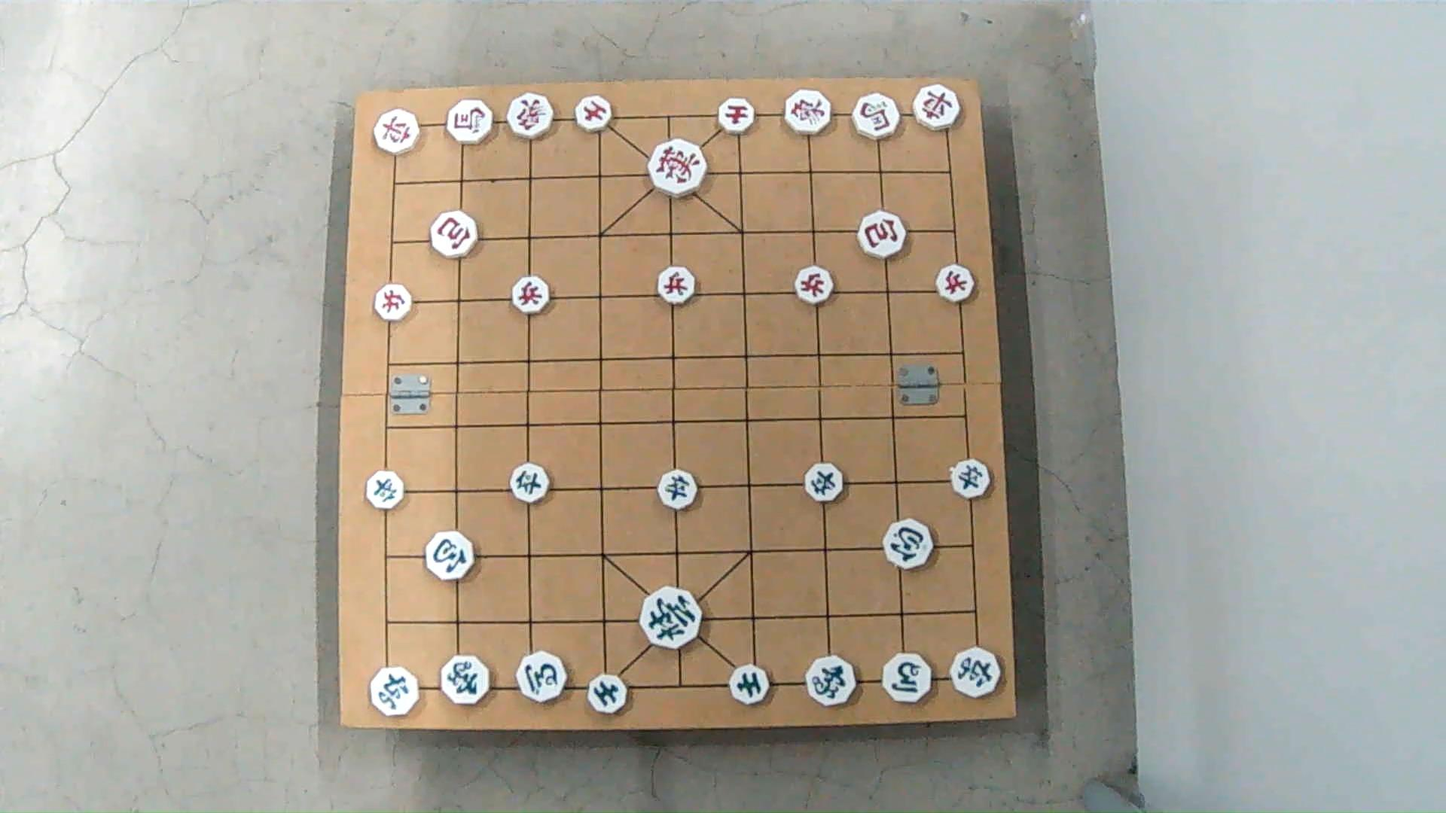cha_green: (950, 648, 1002, 700), (371, 667, 421, 714)
cha_red: (374, 108, 421, 157), (913, 85, 960, 128)
jol_green: (509, 464, 551, 503), (804, 463, 846, 501), (657, 470, 698, 508), (950, 458, 991, 496), (366, 473, 407, 510)
jol_red: (795, 266, 835, 303), (935, 265, 976, 301), (508, 277, 549, 312), (656, 266, 694, 303), (375, 287, 413, 322)
ma_green: (516, 652, 569, 703), (881, 654, 932, 702)
ma_red: (850, 93, 900, 144), (447, 100, 494, 140)
po_green: (424, 531, 474, 583), (883, 521, 933, 568)
po_red: (432, 211, 480, 257), (860, 212, 908, 257)
sa_green: (728, 667, 771, 705), (587, 675, 627, 713)
sa_red: (717, 99, 756, 132), (575, 96, 613, 129)
sang_green: (807, 655, 858, 709), (440, 656, 492, 708)
sang_red: (782, 90, 834, 139), (508, 93, 554, 141)
wang_green: (640, 586, 702, 648)
wang_red: (645, 140, 703, 193)
